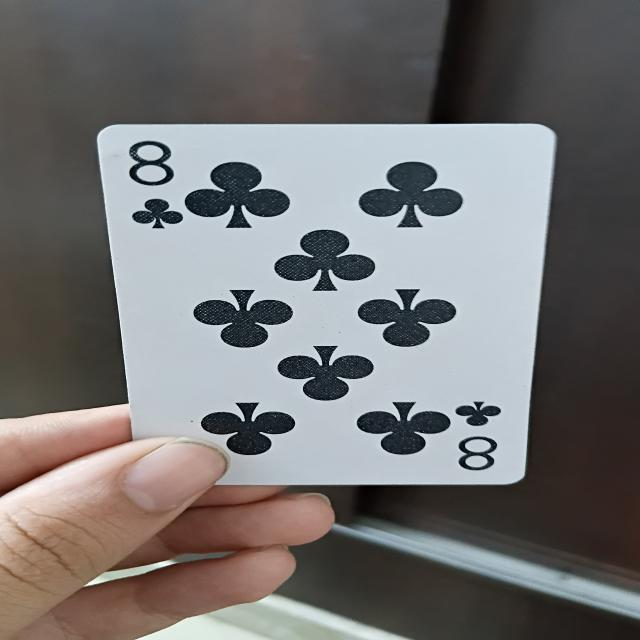8C: (86, 111, 548, 491)
